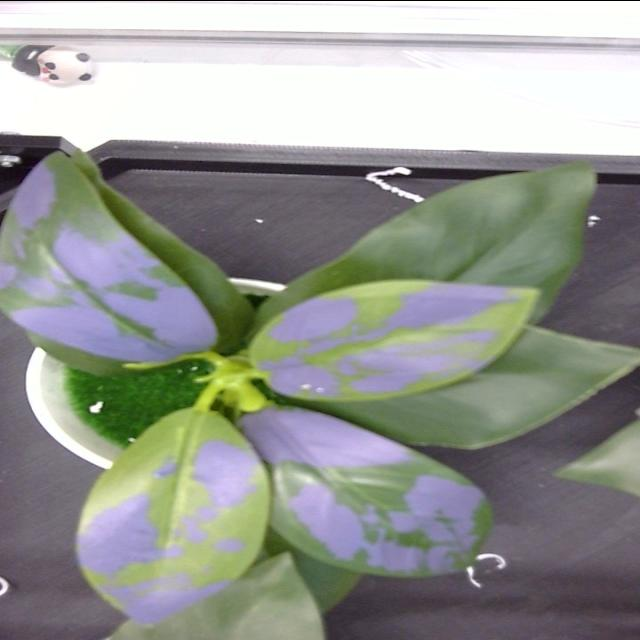Green: (252, 161, 596, 330), (292, 325, 639, 448)
Purple: (0, 152, 253, 374), (239, 404, 491, 576), (77, 408, 269, 623), (250, 279, 539, 400)
